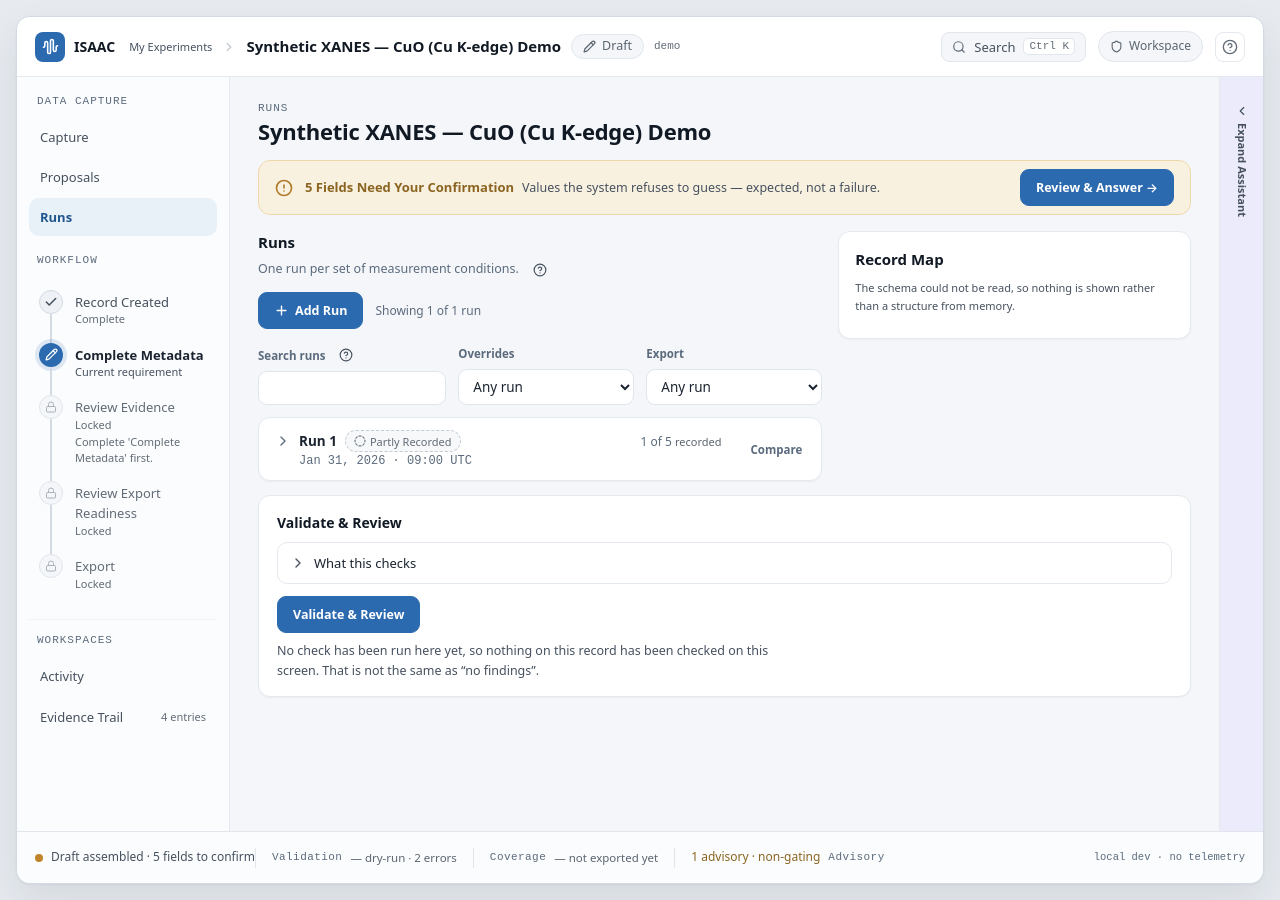
it: the picker is the primary control, and it says which clock it is › reads the stored value back in both spellings
Expected: the button "Add Run" is shown, x1=258 y1=292 x2=363 y2=330
Click the button that starts with "Run 1".
click(291, 458)  # box x1=259 y1=418 x2=738 y2=480
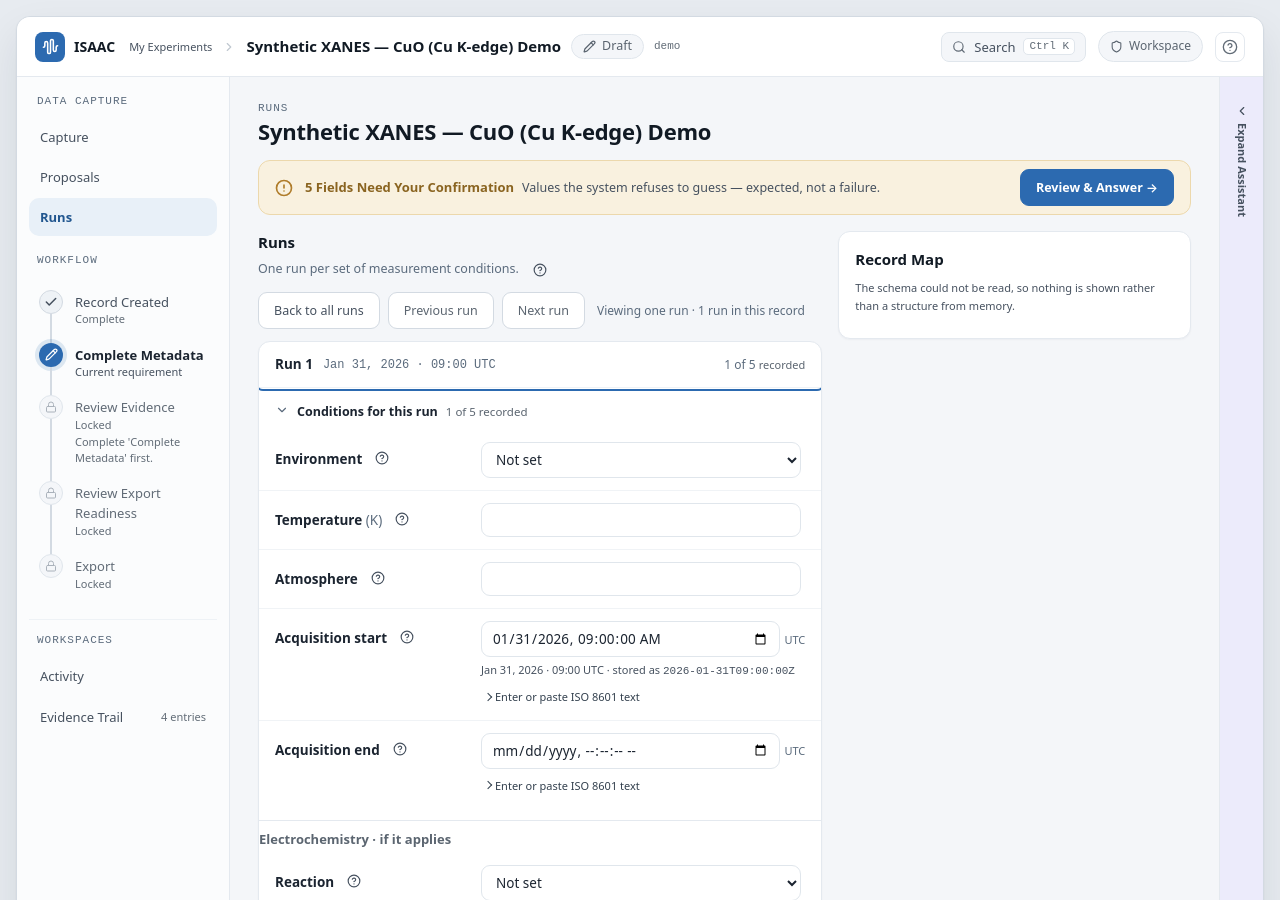
Now the element with class "run-field-readback" shows "Jan 31, 2026 · 09:00 UTC", box x1=481 y1=662 x2=604 y2=677
Now the element with class "run-field-readback" shows "2026-01-31T09:00:00Z", box x1=663 y1=665 x2=795 y2=677
